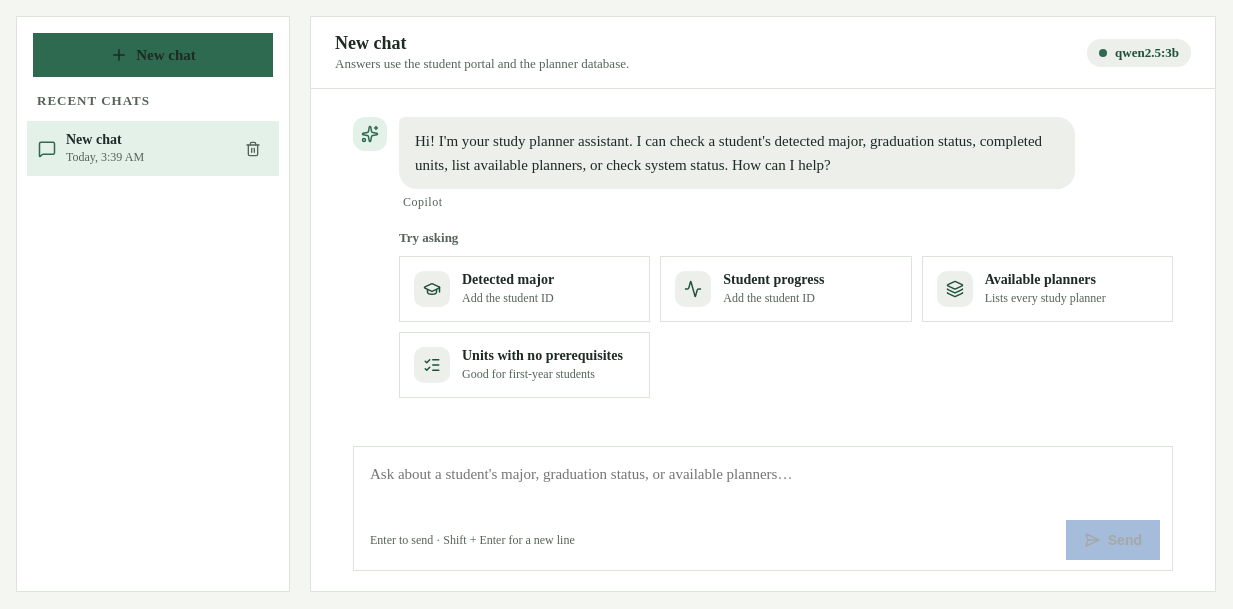
Test: in the Meadow design › shows no buttons when the answer has none
Replace the text in the text box with placeholder "Ask about a student" with "weather?" at (765,486), box x1=370 y1=459 x2=1160 y2=512
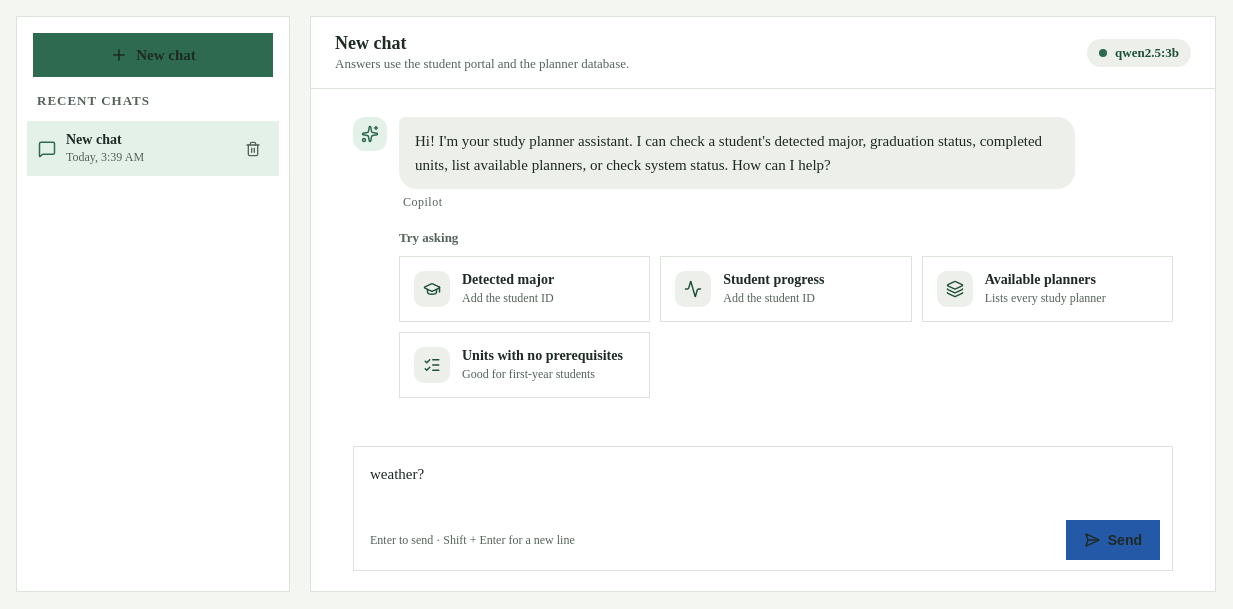
Click the button "Send" at (1113,540), box x1=1066 y1=520 x2=1160 y2=560
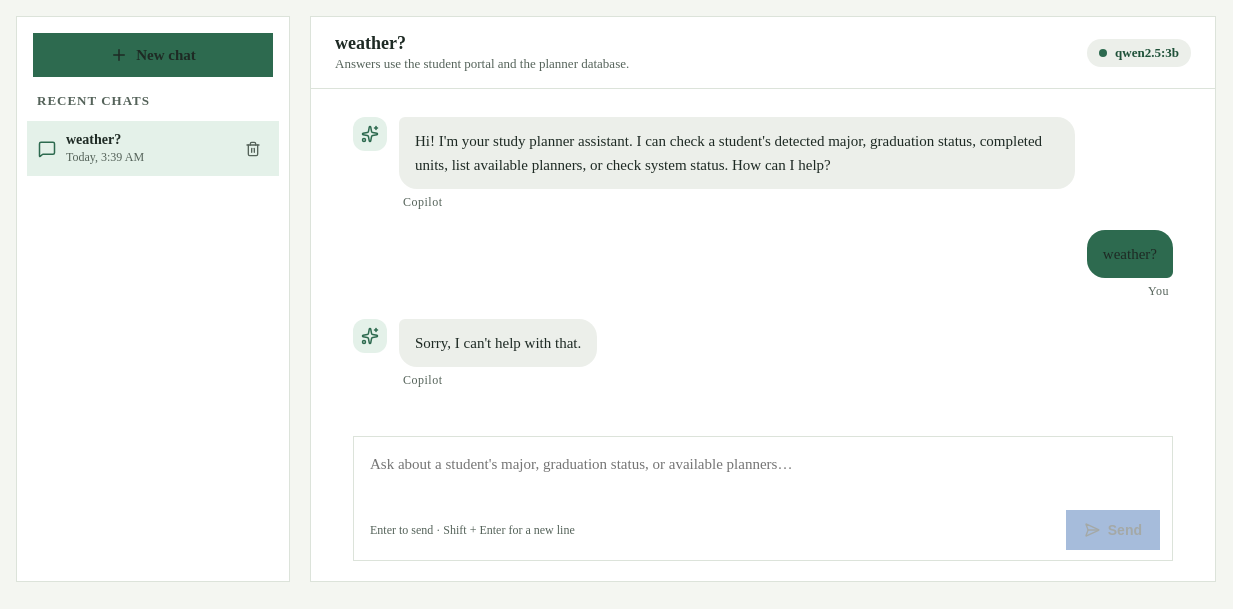
Expected: the text "Sorry, I can't help with that." is shown, x1=415 y1=331 x2=581 y2=355
